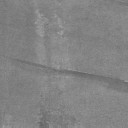finishing roll printing: (3, 55, 128, 94)
